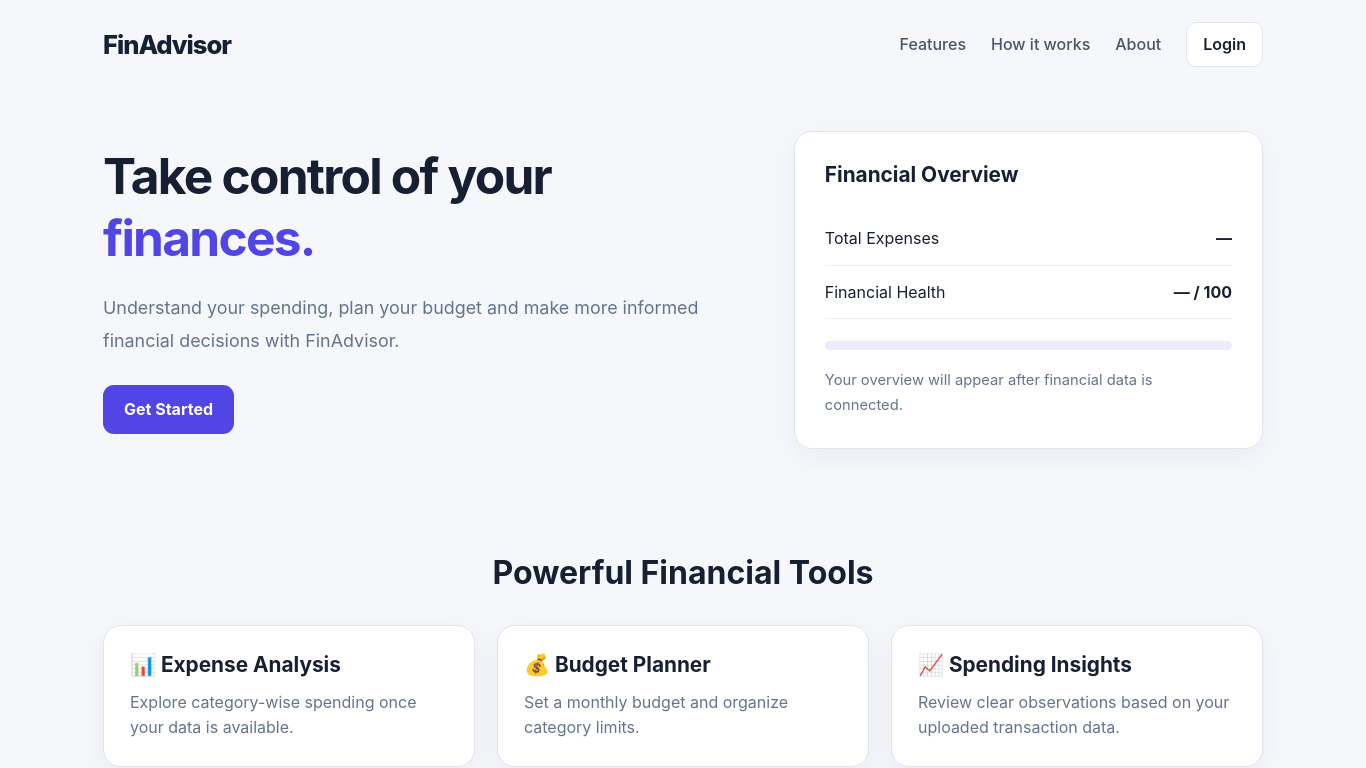
Scenario: FinAdvisor app shell › asks for a file before sending an upload request
Click the button "Get Started": (168, 409) [103,385,234,434]
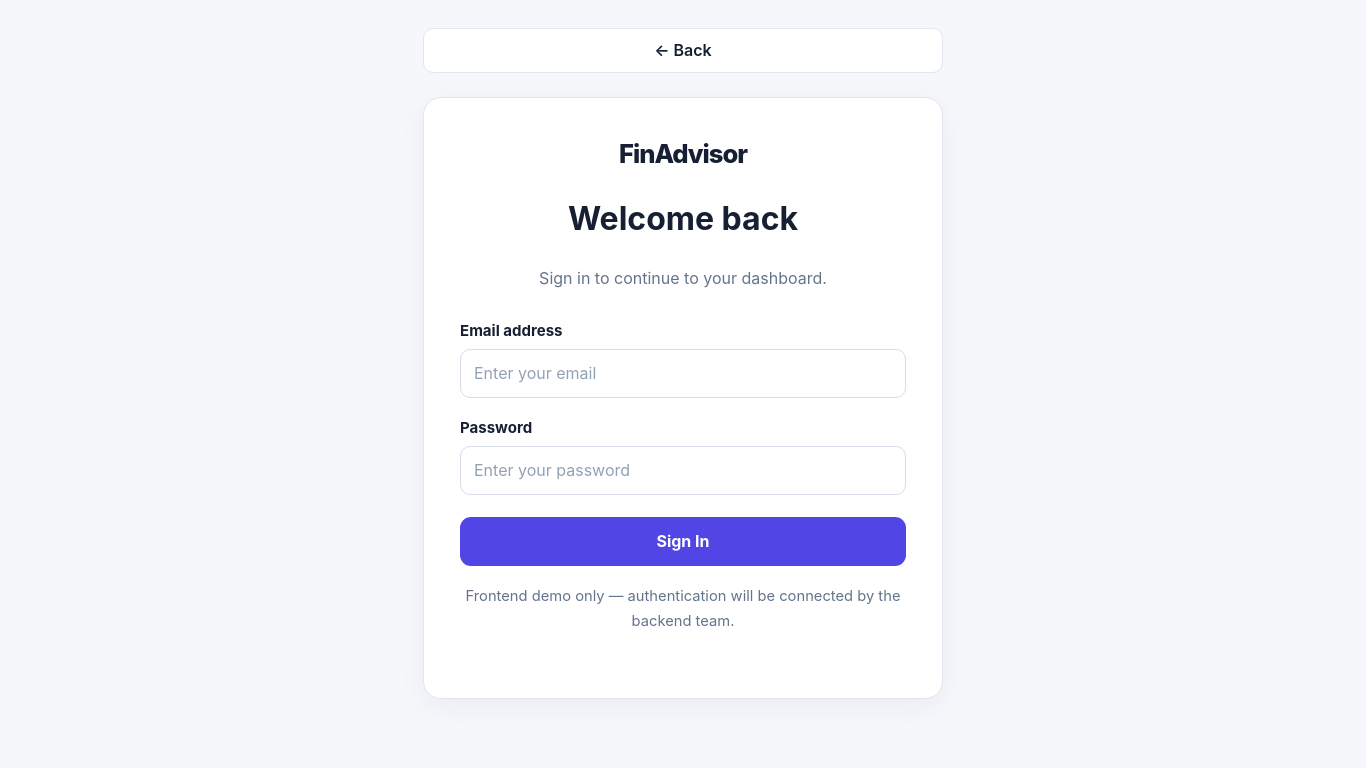
In the field with placeholder "Enter your email": (683, 374) [460,349,906,398], type "demo@example.com"
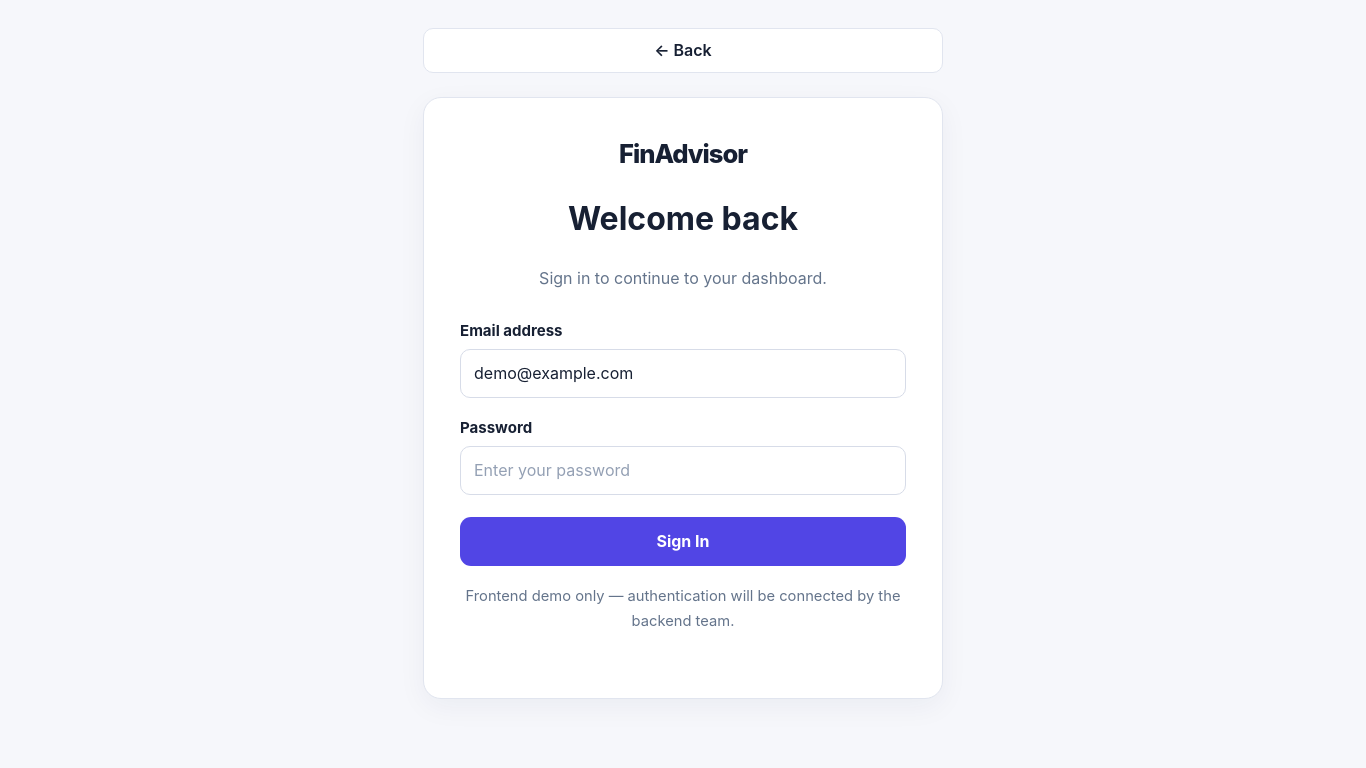
In the password field with placeholder "Enter your password": (683, 471) [460,446,906,495], type "demo-password"
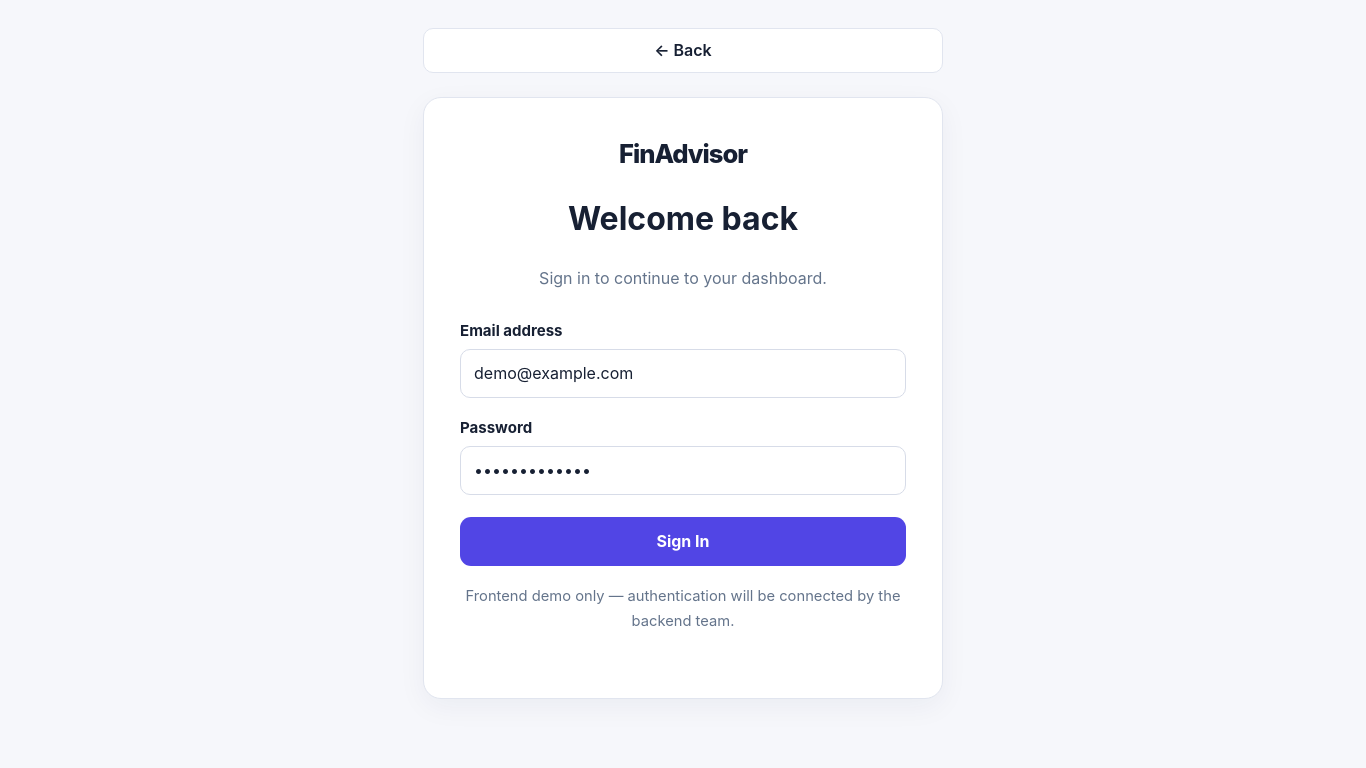
Click the button "Sign In": (683, 541) [460,517,906,566]
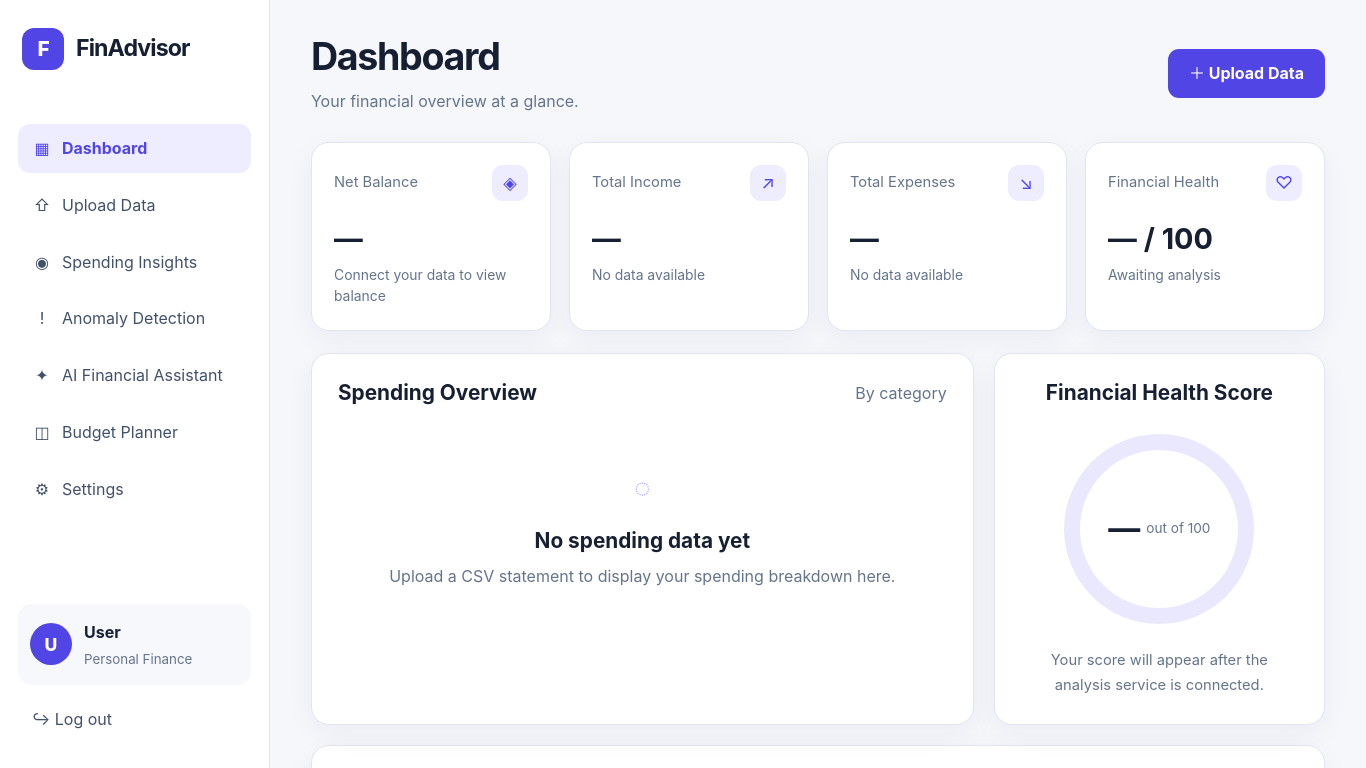
Click the button "⇧ Upload Data": (134, 205) [18,181,251,230]
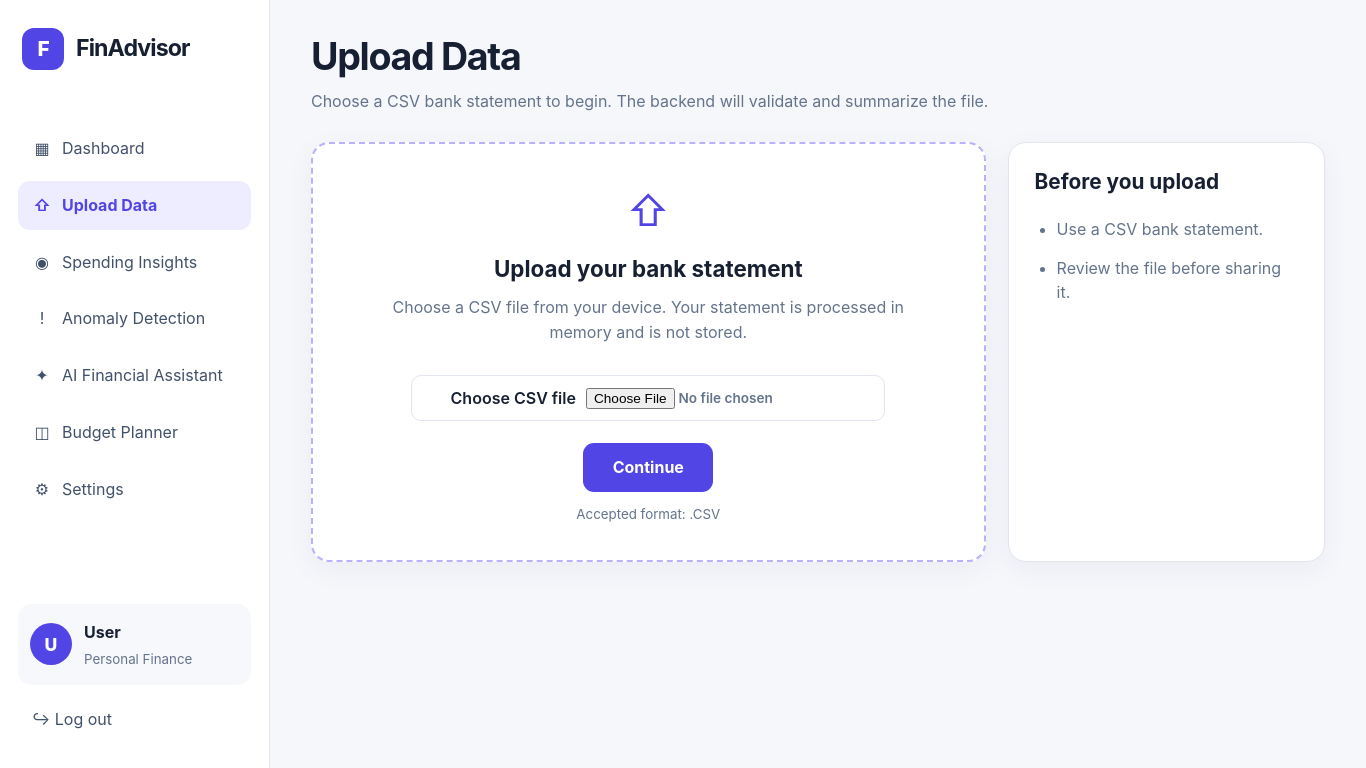
Click the button "Continue": (648, 468) [583,444,713,492]
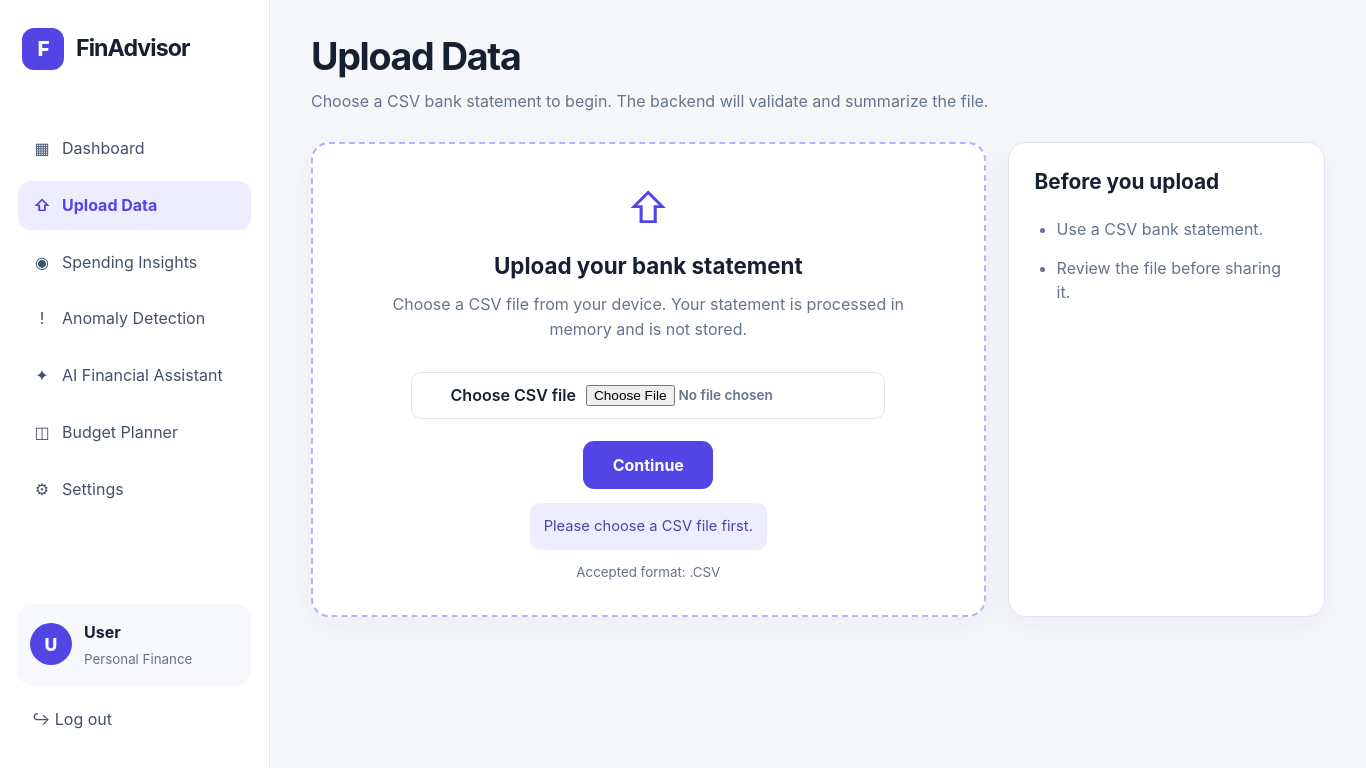
Now the message reads "Please choose a CSV file first.", box [544,517,753,535]
